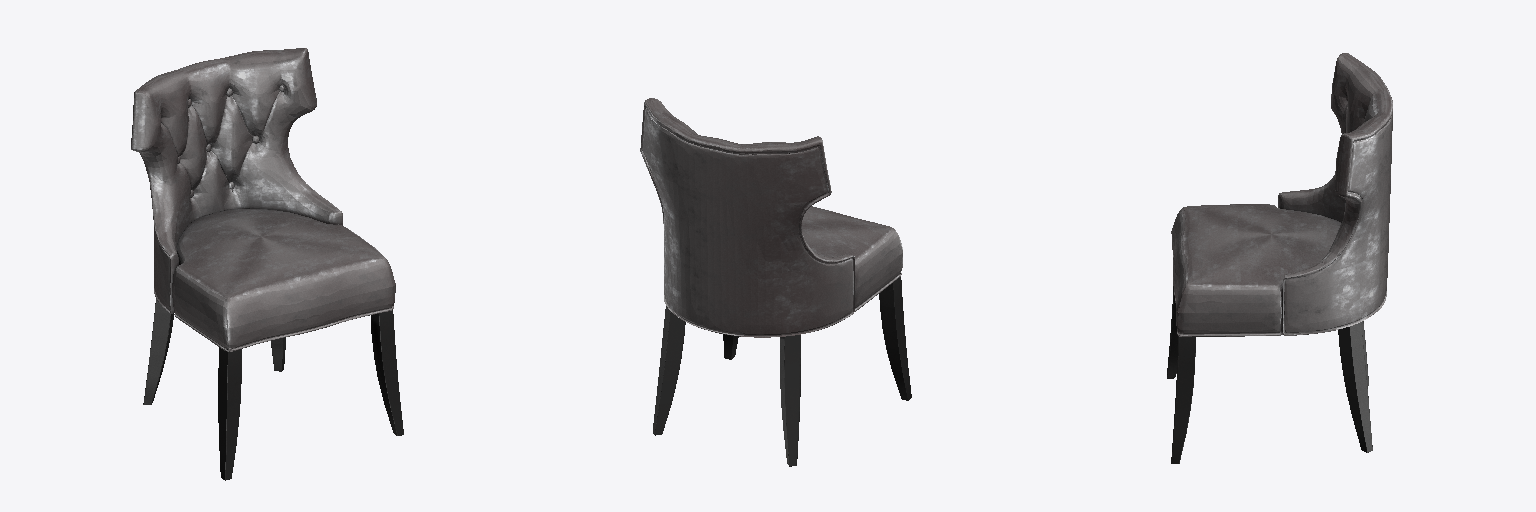
The picture shows the model from 3 angles: view 1: azimuth 30°, elevation 25°; view 2: azimuth 150°, elevation 25°; view 3: azimuth 270°, elevation 25°; orthographic projection.
Visible parts, largest first — view 1: solid_001, solid_002; view 2: solid_001, solid_002; view 3: solid_001, solid_002.
Boxes of the visible parts, x1=… form: solid_001: x1=131, y1=48, x2=395, y2=351; solid_002: x1=143, y1=299, x2=403, y2=480; solid_001: x1=640, y1=98, x2=902, y2=337; solid_002: x1=653, y1=273, x2=911, y2=466; solid_001: x1=1171, y1=53, x2=1392, y2=336; solid_002: x1=1167, y1=286, x2=1372, y2=463.
Bounding box in the file's own units: 0.9236 × 1.52 × 0.9612.
1 materials, 1 textured.